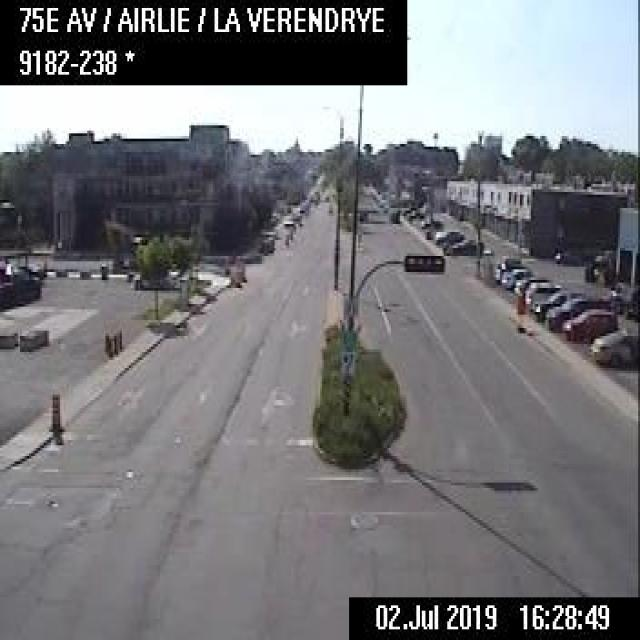construction: (48, 387, 60, 427), (512, 293, 524, 315), (264, 234, 274, 252), (106, 330, 113, 355), (112, 331, 118, 354), (259, 237, 266, 254)
vehicle: (561, 306, 616, 342), (544, 295, 602, 329), (590, 325, 637, 365), (532, 288, 589, 318), (524, 280, 560, 308), (500, 266, 533, 290), (443, 236, 482, 256), (491, 255, 522, 279), (513, 274, 547, 295), (433, 226, 466, 244)
